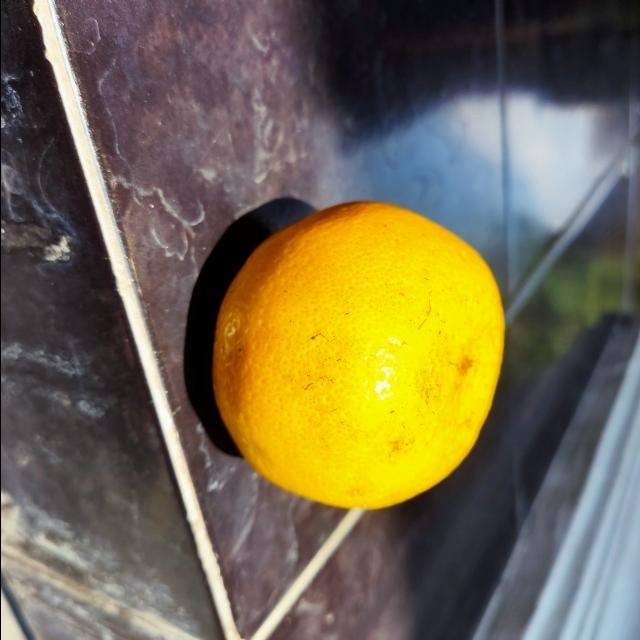agrume: (206, 199, 509, 515)
